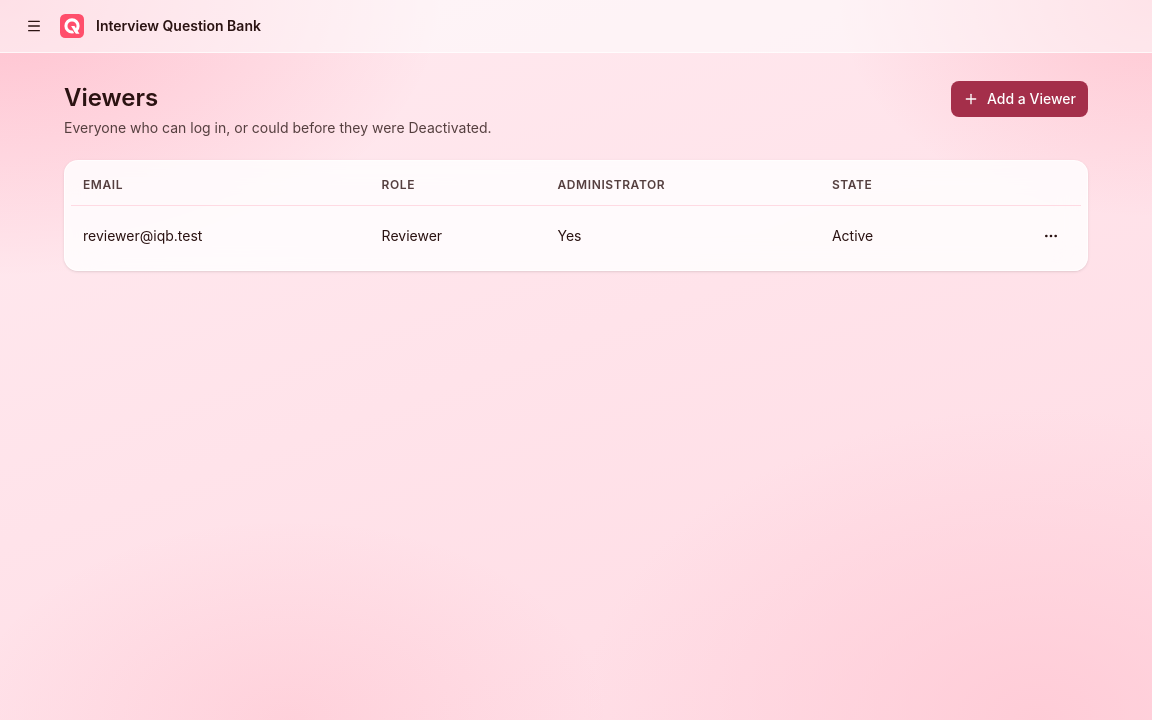
it: creating a Viewer from the administration console › sends the email and role typed, and lists the new Viewer
The image size is (1152, 720).
Click the button "Add a Viewer" at point(1020, 99), box [951,81,1088,117]
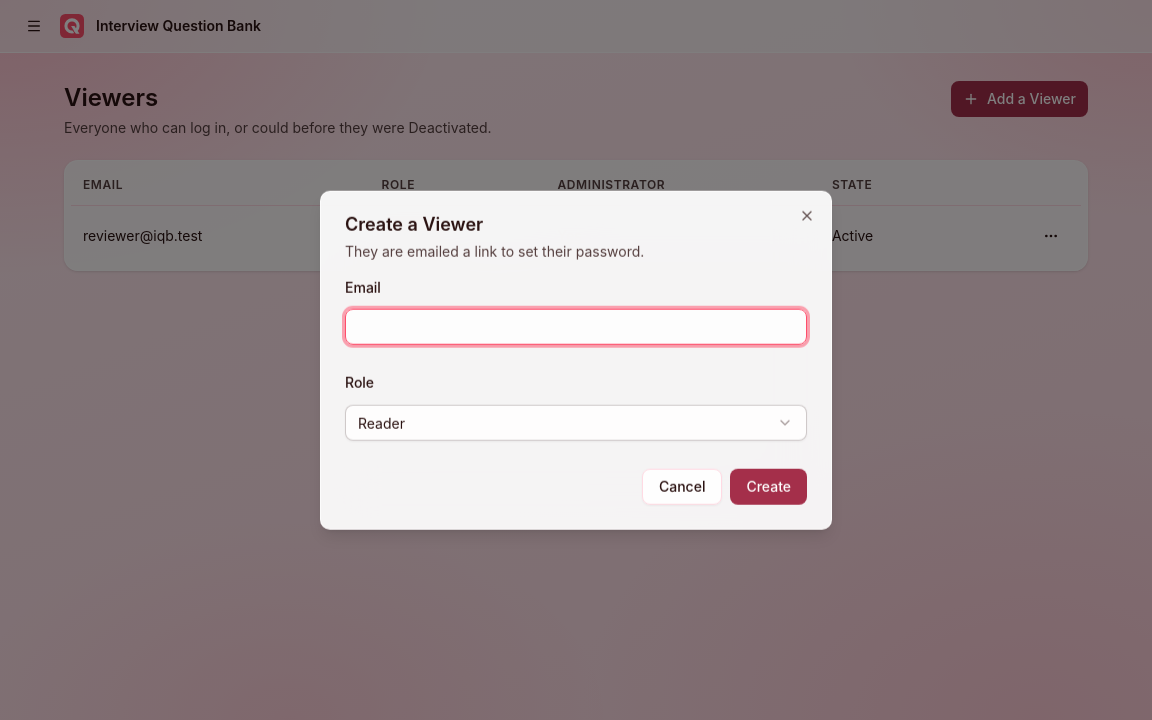
Type "Newcomer@iqb.test" into the field labelled "Email" at point(576, 327), box [345,309,807,345]
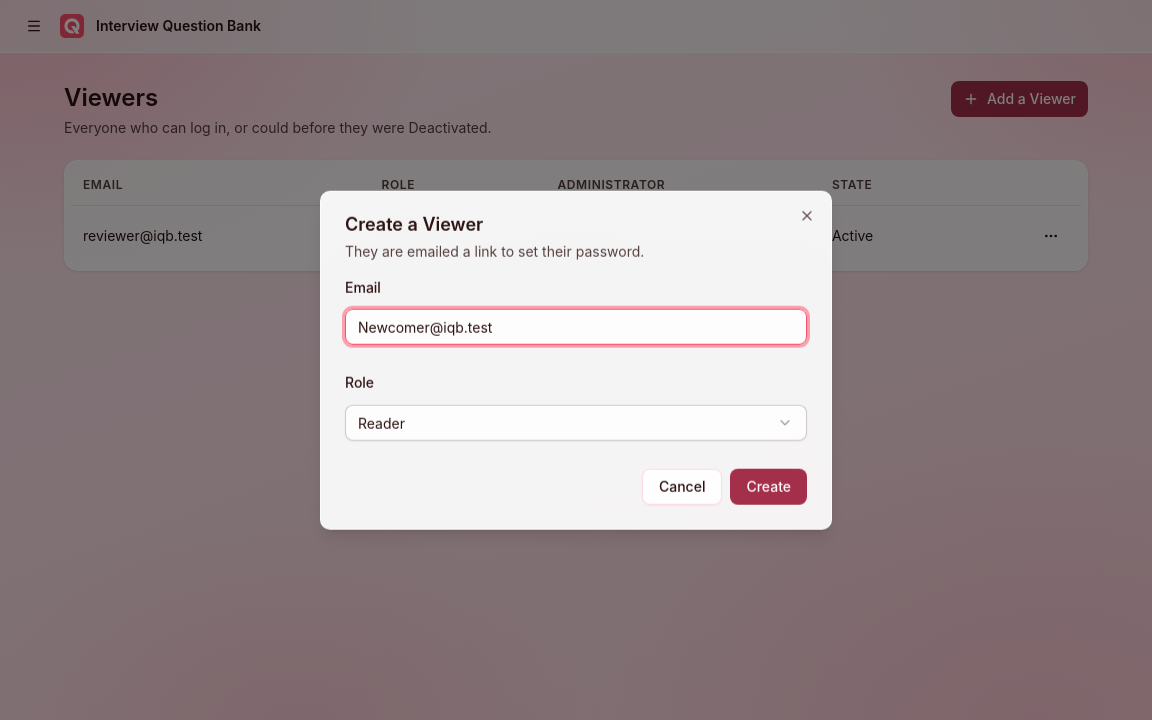
Select "Reviewer" in the dropdown labelled "Role" at point(576, 422), box [345,404,807,440]
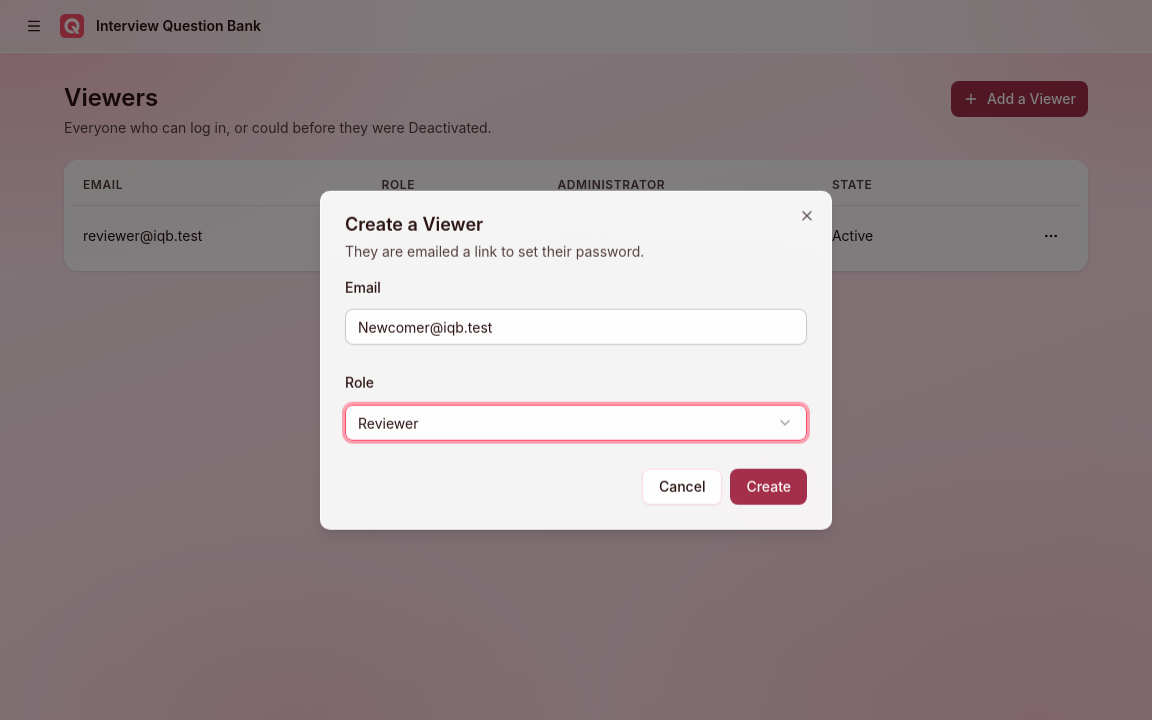
Click the button "Create" at point(769, 486), box [730,468,807,504]
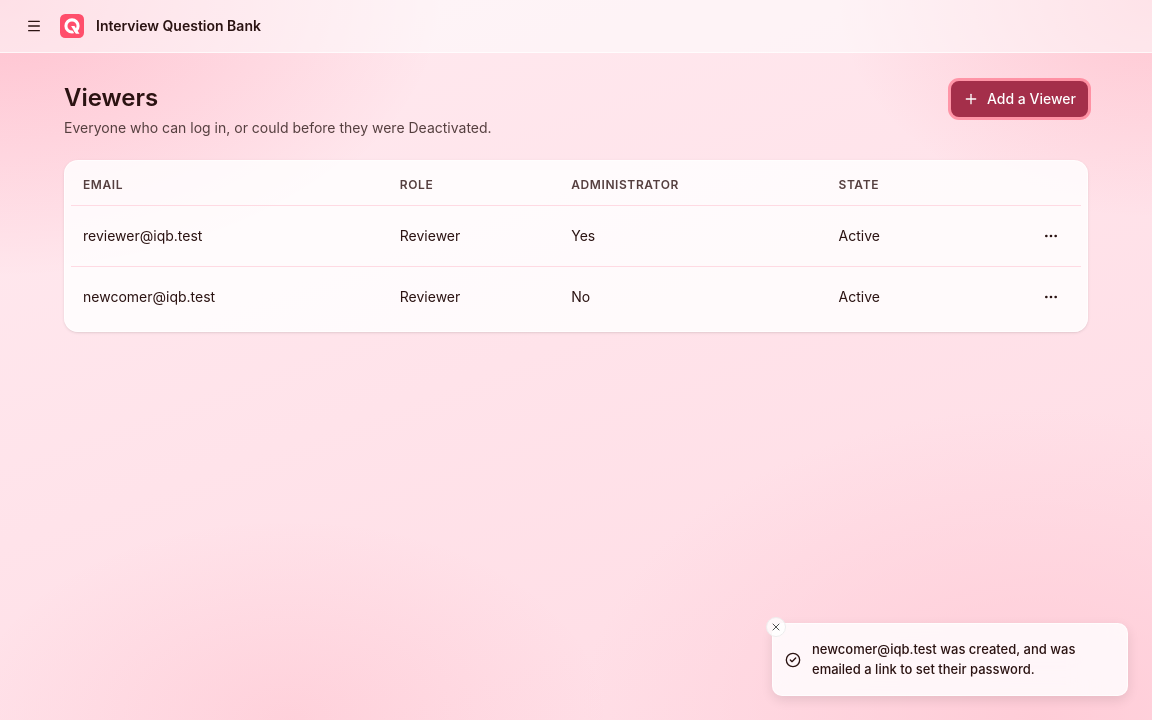
Now the text "newcomer@iqb.test was created, and was emailed a link to set their password." is shown once, box [812,640,1111,679]
Now the heading "Create a Viewer" is gone
Now the text "newcomer@iqb.test" is shown, box [71,266,388,327]
